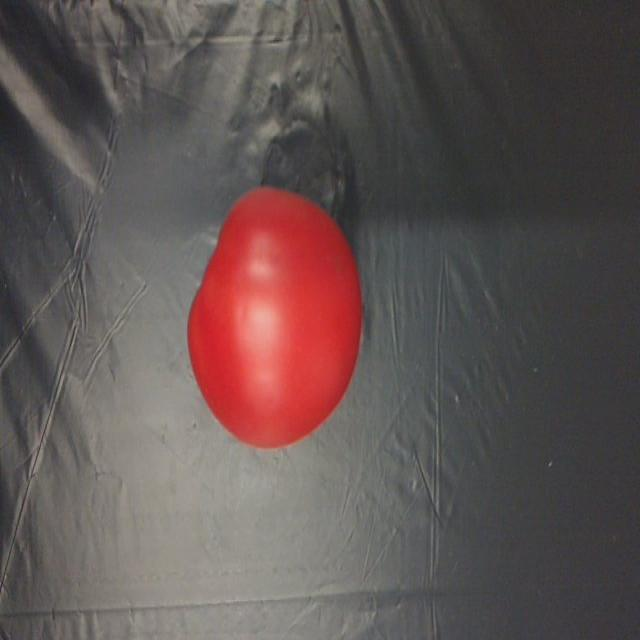kirmizi: (162, 145, 387, 465)
